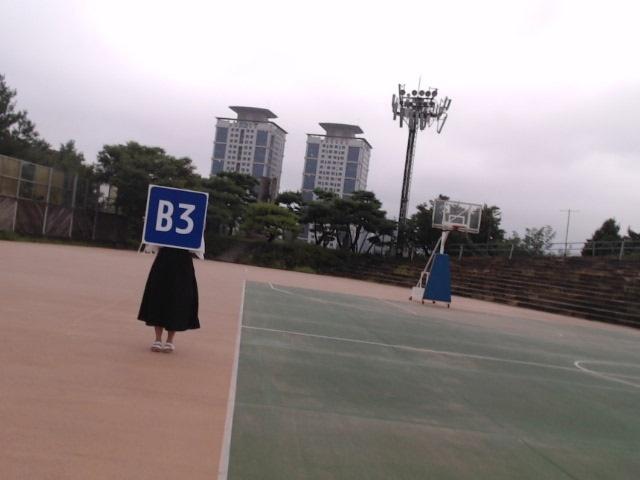delivery_b3: (144, 186, 207, 249)
